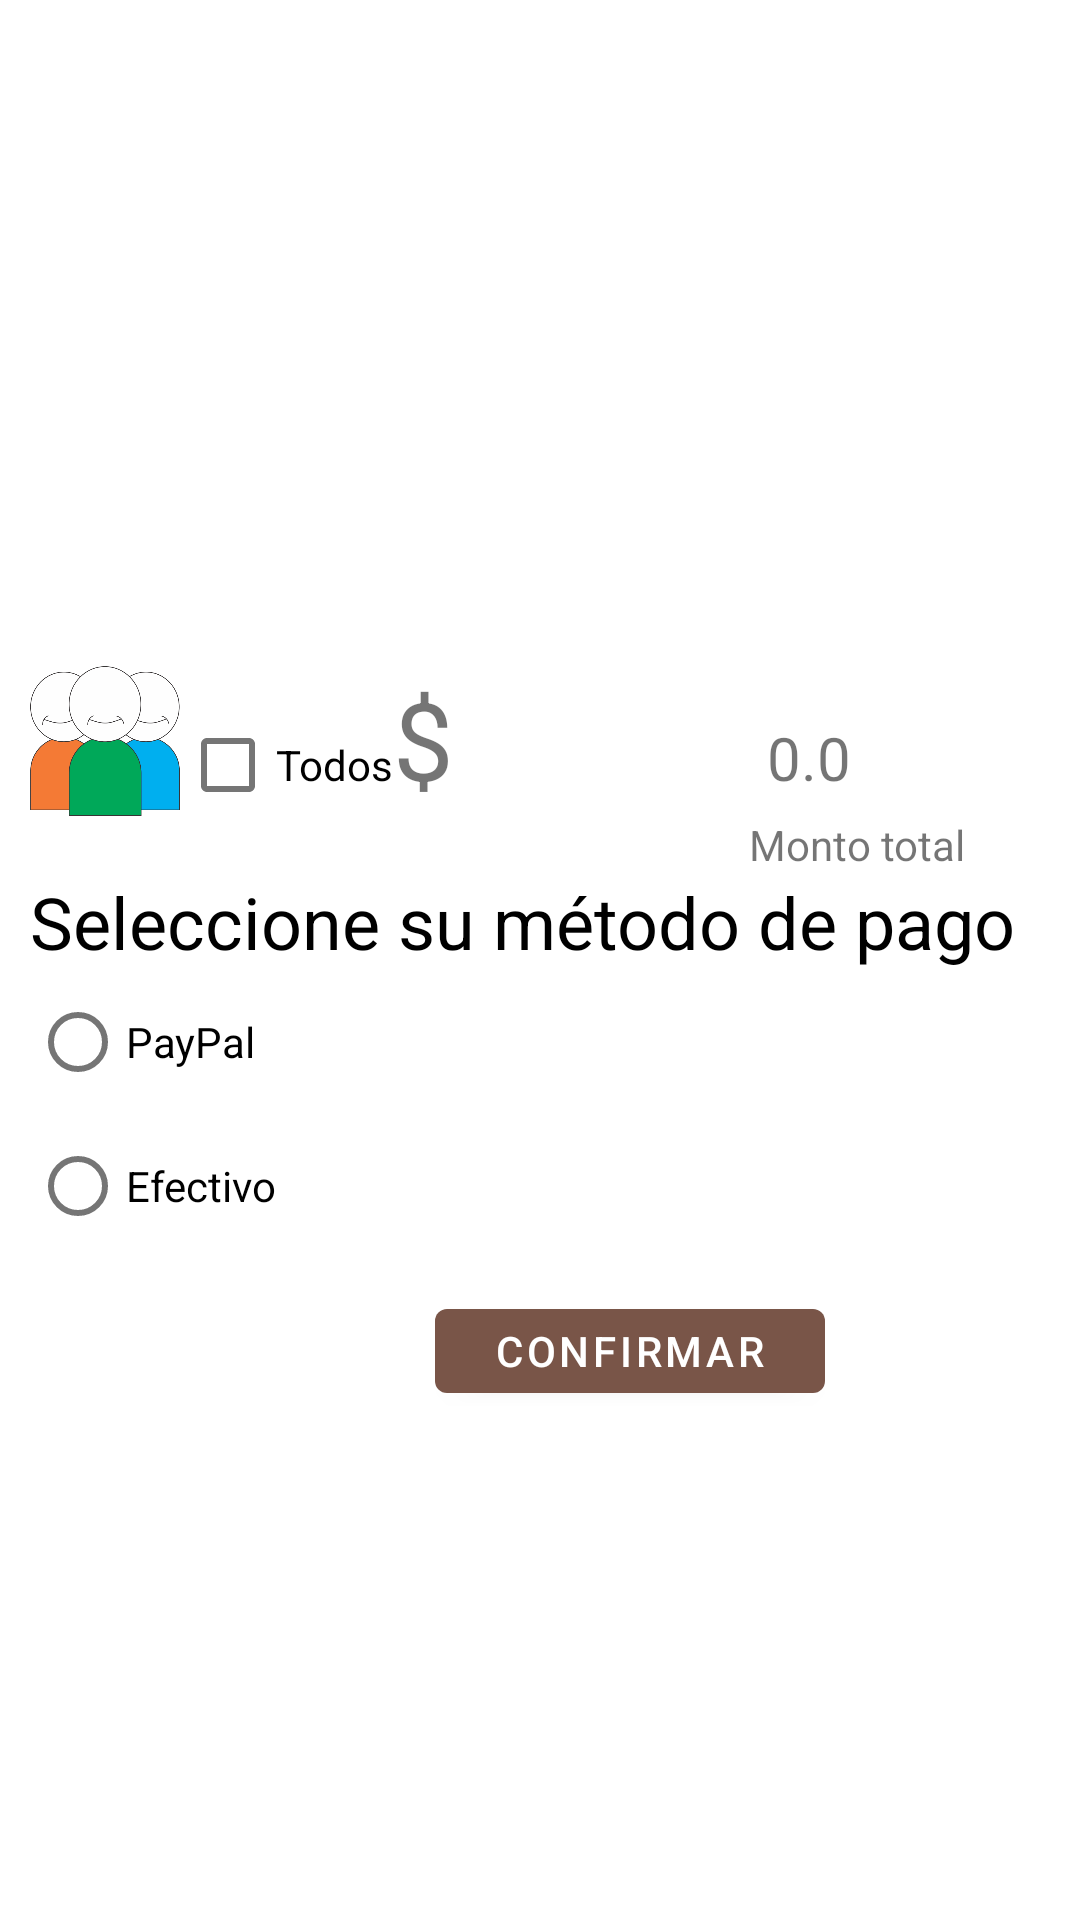

Icon click points for this 1080x1920 phone screenshot, format point (x, y):
personitas: point (105, 741)
